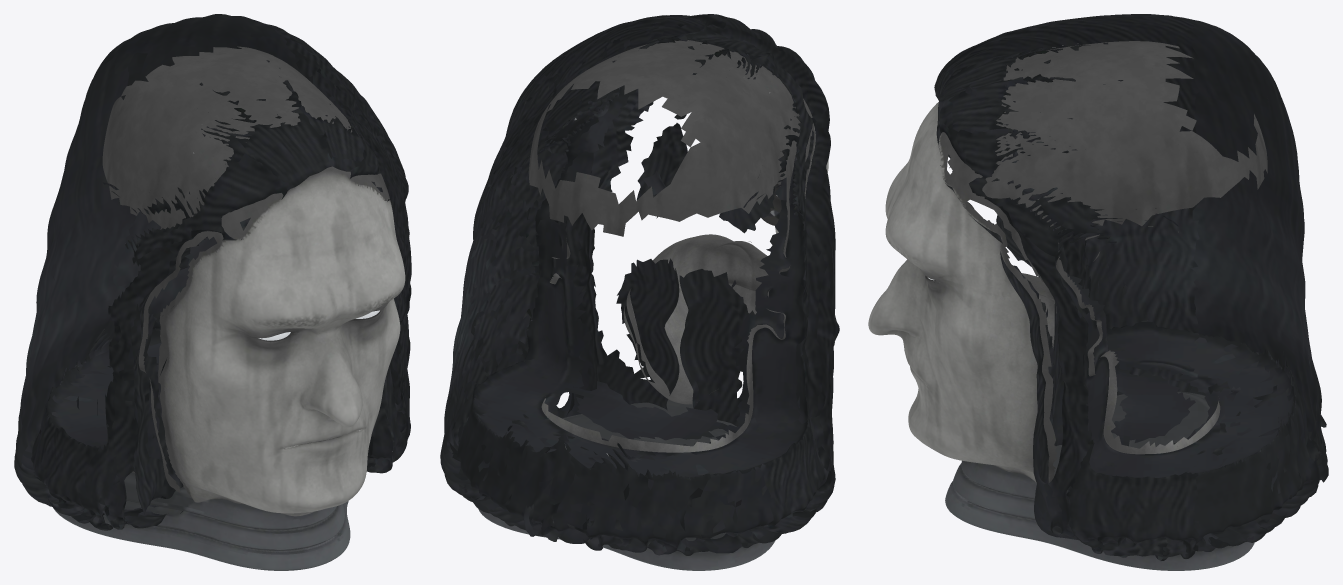
The model's file is faust_head.bd62acb8.glb.
3 views of the same model, side by side, from view 1: azimuth 30°, elevation 25°; view 2: azimuth 150°, elevation 25°; view 3: azimuth 270°, elevation 25° (orthographic). The views are drawn at different scales.
Parts seen in each view (by area): view 1: lod0; view 2: lod0; view 3: lod0.
Boxes of the visible parts, x1,y1,x2,y2 form: lod0: (14,14,411,570); lod0: (440,14,839,570); lod0: (868,14,1328,570).
Size of what is drawn, in the model's own units: 880 by 1096 by 959.
Materials: 1 (1 with a texture image).
